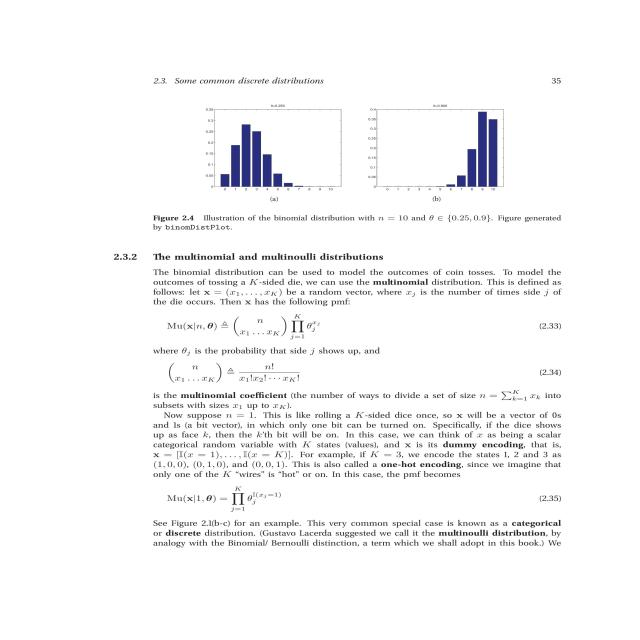diagram: (117, 90, 638, 252)
